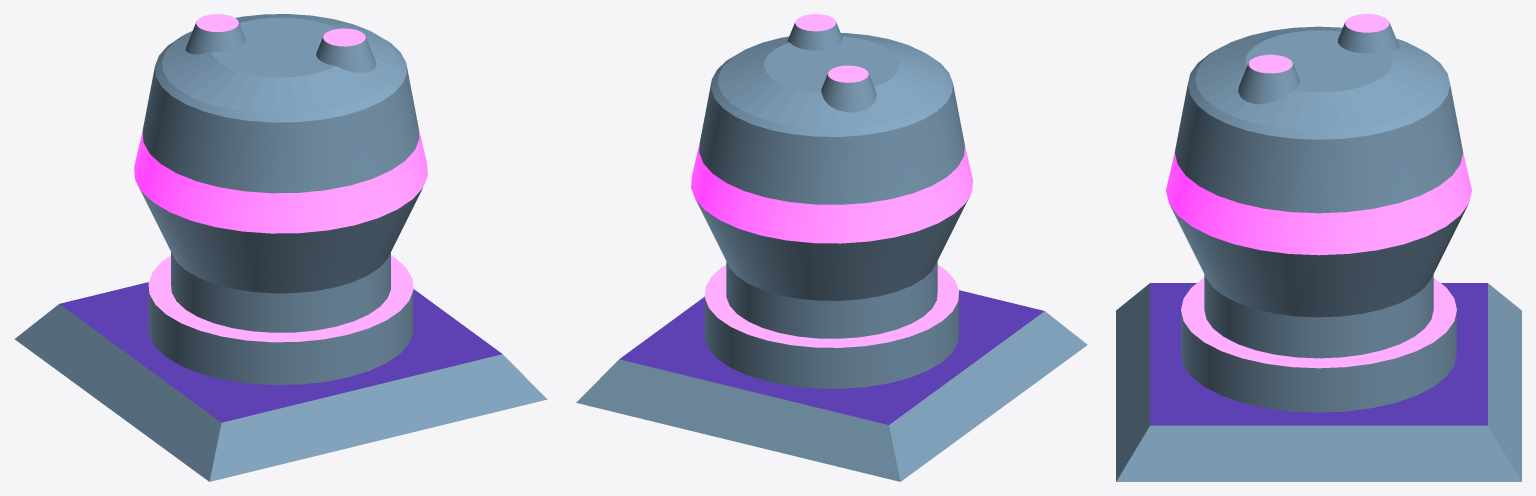
Rendered from Waall_2.fbx.
The picture shows the model from 3 angles, left to right: view 1: azimuth 30°, elevation 25°; view 2: azimuth 150°, elevation 25°; view 3: azimuth 270°, elevation 25°; orthographic projection. The views are drawn at different scales.
Parts seen in each view (by area): view 1: waal_solid_2; view 2: waal_solid_2; view 3: waal_solid_2.
Part boxes in pixels (<box>): waal_solid_2: <box>14,14,547,481</box>; waal_solid_2: <box>576,14,1087,481</box>; waal_solid_2: <box>1116,14,1521,481</box>.
Size of the model in its own units: 39.36 by 37.73 by 39.36.
